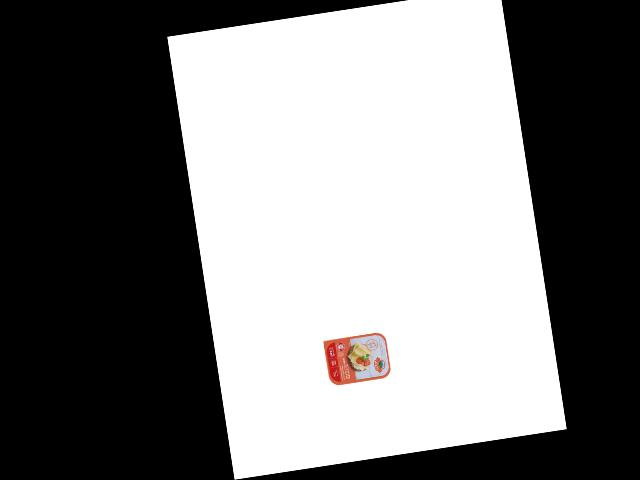cheese: (319, 330, 393, 390)
